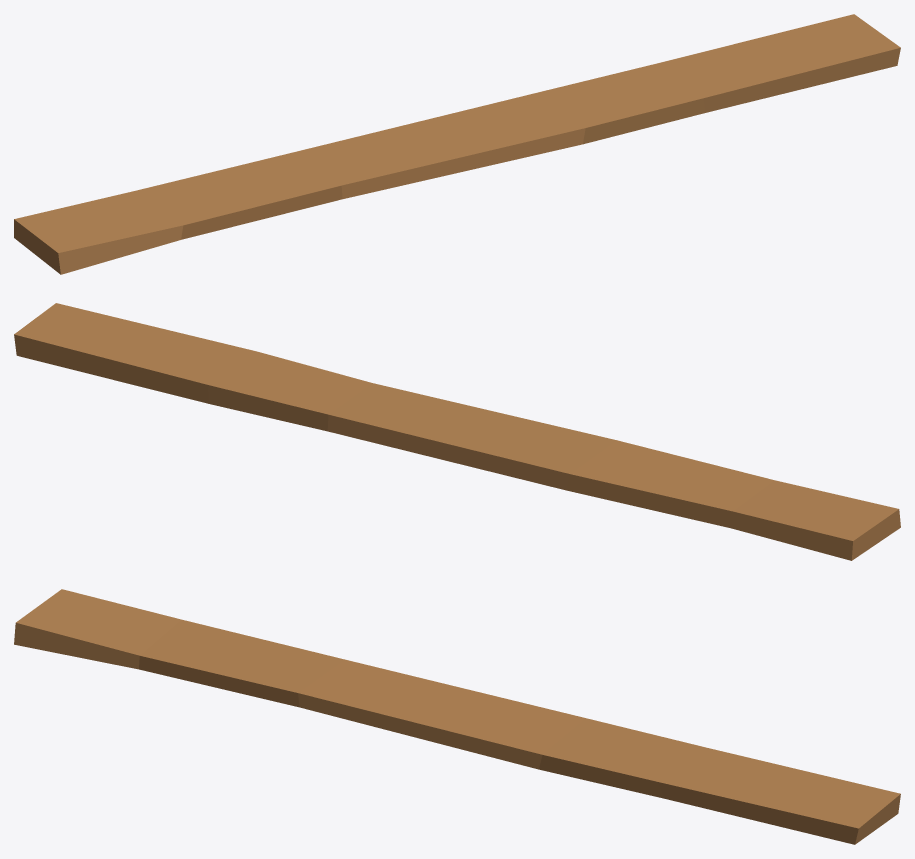
File: Wood_Beam_01.fbx
3 views of the same model, one above another, from view 1: azimuth 30°, elevation 25°; view 2: azimuth 150°, elevation 25°; view 3: azimuth 330°, elevation 25° (orthographic).
Visible parts, largest first — view 1: Wood_Beam_03.004; view 2: Wood_Beam_03.004; view 3: Wood_Beam_03.004.
Part boxes in pixels (x1,y1,x2,y2): Wood_Beam_03.004: (14, 14, 900, 274); Wood_Beam_03.004: (14, 303, 900, 560); Wood_Beam_03.004: (14, 589, 900, 844).
Size of the model in its own units: 207 by 2092 by 52.19.
